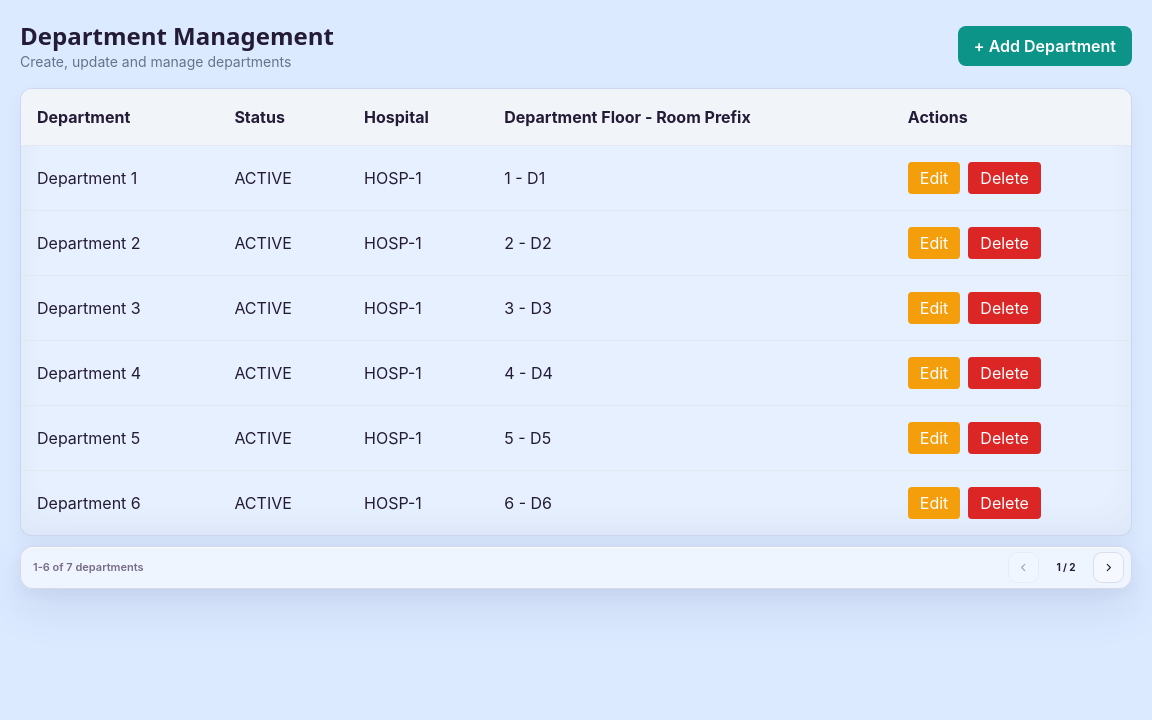
Test: DepartmentManagement › paginates departments at the page boundary
Check: the text "Department 1" is shown, box [21,146,218,210]
Check: the text "Department 7" is not shown
Click the button named "Next departments page".
click(1108, 568)  # box [1093,552,1124,583]
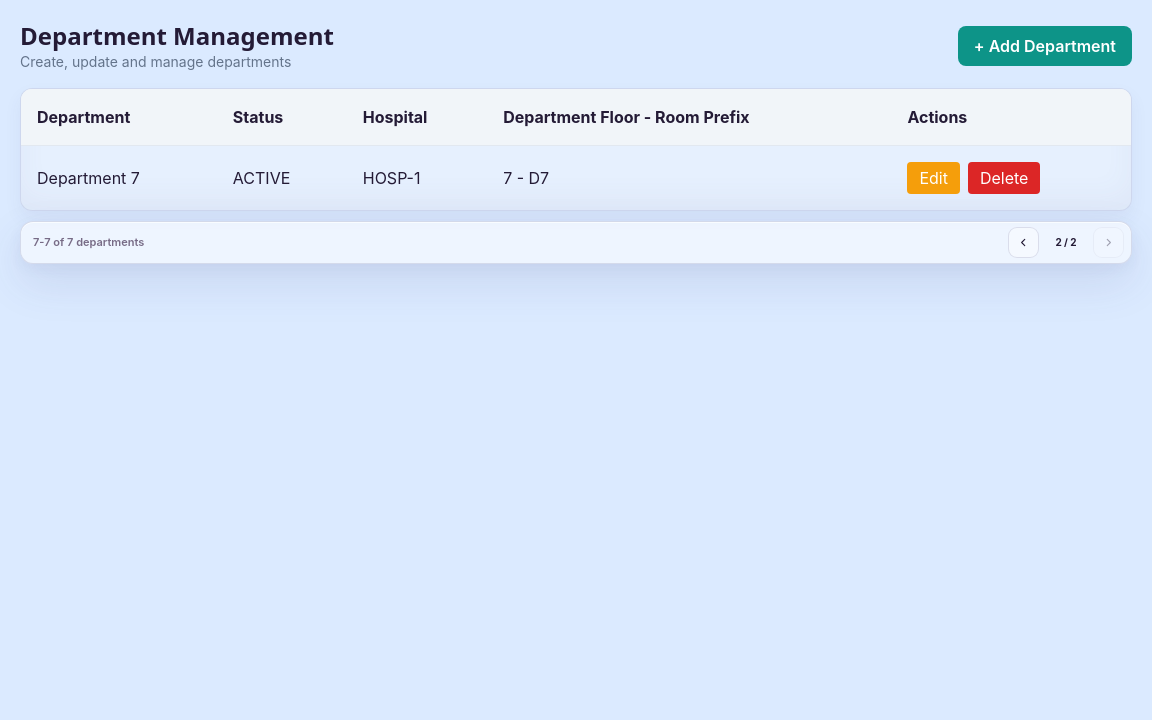
Check: the text "Department 7" is shown, box [21,146,217,210]
Check: the text "Department 1" is gone
